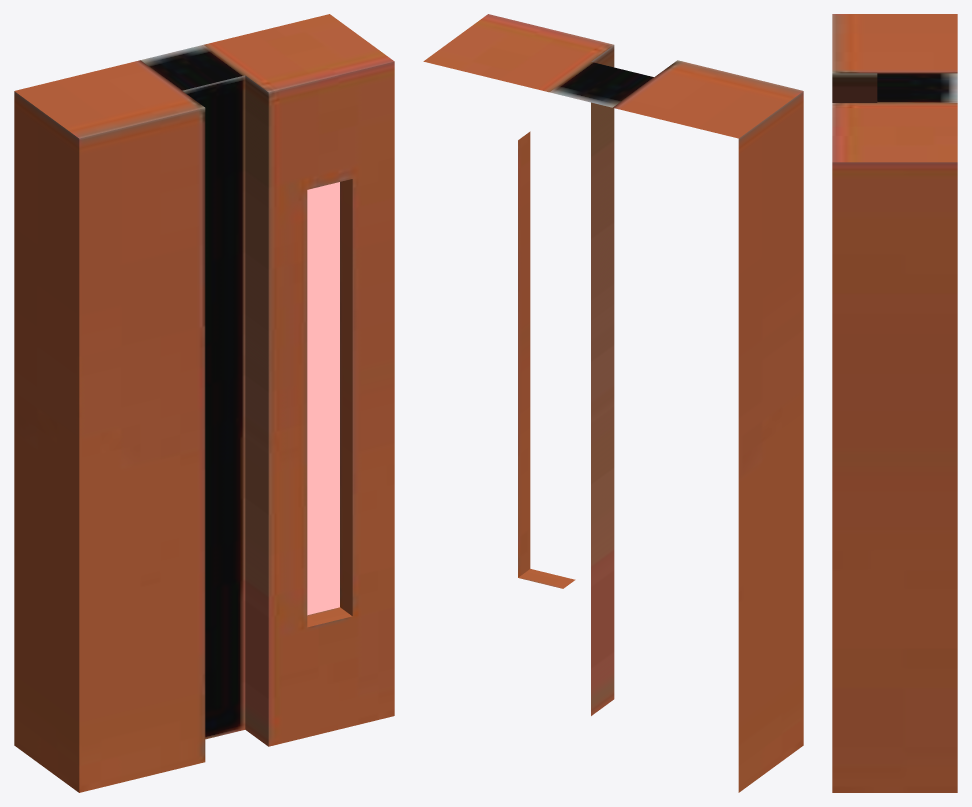
File: Panel_CardSlider.glb
3 views of the same model, side by side, from view 1: azimuth 30°, elevation 25°; view 2: azimuth 150°, elevation 25°; view 3: azimuth 270°, elevation 25° (orthographic). The views are drawn at different scales.
Parts seen in each view (by area): view 1: Panel_CardSlider; view 2: Panel_CardSlider; view 3: Panel_CardSlider.
Part boxes in pixels (box(x1,y1,x2,y2)): Panel_CardSlider: box(14, 14, 394, 792); Panel_CardSlider: box(423, 14, 803, 792); Panel_CardSlider: box(832, 14, 957, 792).
Size of the model in its own units: 0.1475 by 0.2923 by 0.0527.
Materials: 2 (1 with a texture image).
